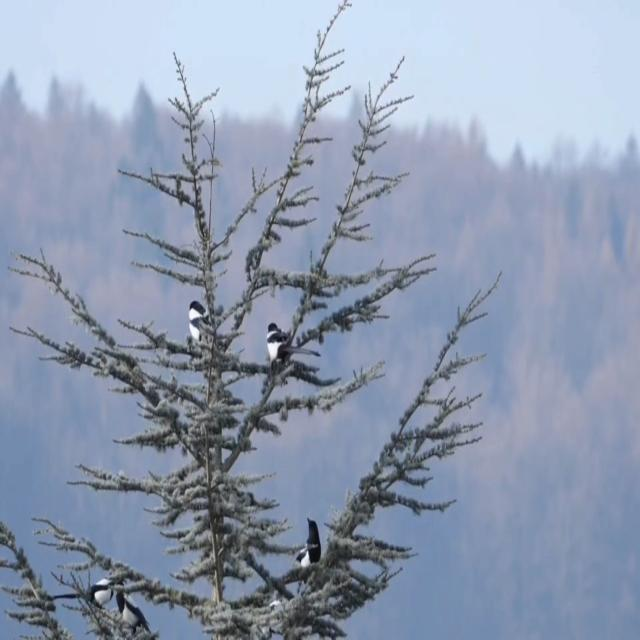bird: (257, 300, 334, 392), (172, 276, 235, 388), (42, 559, 130, 634), (282, 505, 342, 605), (99, 572, 163, 640)
